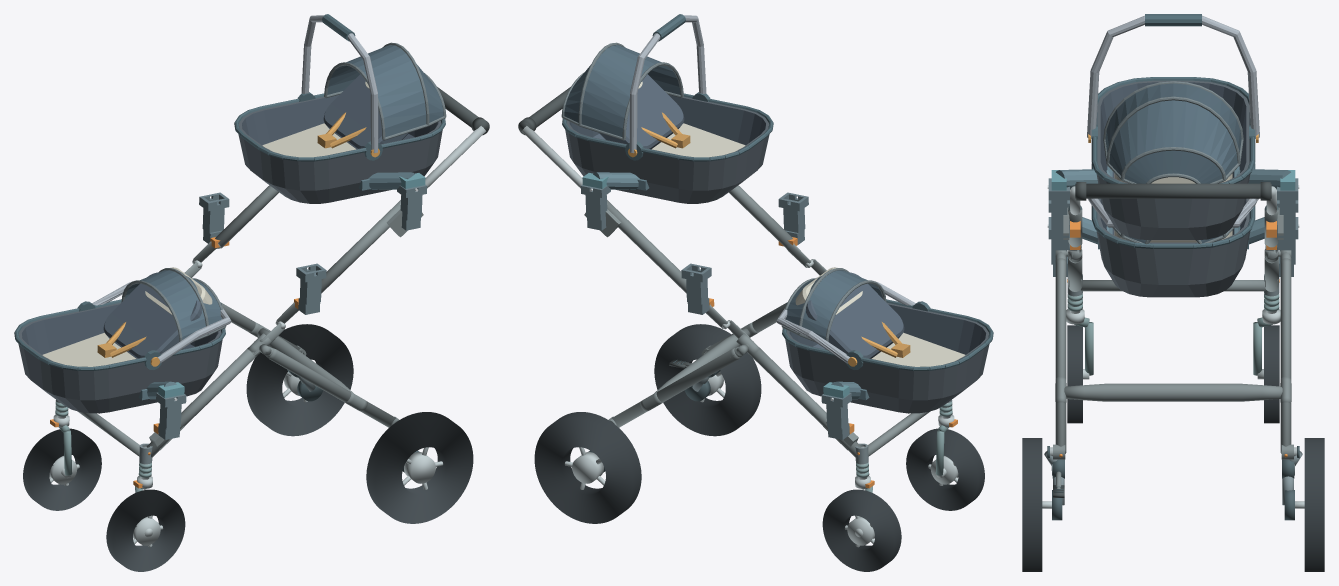
File: D04_w550_state1_wheel_M.glb
3 renders of one model, left to right at view 1: azimuth 30°, elevation 25°; view 2: azimuth 150°, elevation 25°; view 3: azimuth 270°, elevation 25°, orthographic. The views are drawn at different scales.
Visible parts, largest first — view 1: D04_Upper, D04_Lower, RL_tire.002, RR_tire.002, FL_tire.002, FR_tire.002, V46_rear_leg_-1.003, main_lower_-1.003, main_upper_-1.003, Universal_Cabin_Receiver_M_-1, Universal_Cabin_Receiver_M_1, D04_Upper_Mount_H (+9 smaller); view 2: D04_Upper, D04_Lower, RR_tire.002, RL_tire.002, FR_tire.002, FL_tire.002, V46_rear_leg_1.003, main_lower_1.003, main_upper_1.003, Universal_Cabin_Receiver_M_1, Universal_Cabin_Receiver_M_-1, D04_Upper_Mount_H (+9 smaller); view 3: D04_Upper, D04_Lower, V46_rearbar.003, round_handle.002, RL_tire.002, RR_tire.002, V46_rear_leg_1.003, V46_rear_leg_-1.003, D04_Upper_Mount_H, FL_tire.002, FR_tire.002, Universal_Cabin_Receiver_H_1 (+7 smaller).
Boxes of the visible parts, x1=… form: D04_Upper: x1=234, y1=14, x2=446, y2=203; D04_Lower: x1=14, y1=267, x2=231, y2=413; RL_tire.002: x1=366, y1=412, x2=473, y2=523; RR_tire.002: x1=246, y1=324, x2=353, y2=436; FL_tire.002: x1=106, y1=489, x2=185, y2=571; FR_tire.002: x1=23, y1=428, x2=101, y2=510; V46_rear_leg_-1.003: x1=268, y1=348, x2=395, y2=427; main_lower_-1.003: x1=146, y1=349, x2=259, y2=457; main_upper_-1.003: x1=321, y1=200, x2=400, y2=293; Universal_Cabin_Receiver_M_-1: x1=296, y1=263, x2=326, y2=314; Universal_Cabin_Receiver_M_1: x1=199, y1=192, x2=229, y2=243; D04_Upper_Mount_H: x1=358, y1=172, x2=425, y2=191; D04_Upper: x1=561, y1=14, x2=773, y2=203; D04_Lower: x1=776, y1=267, x2=993, y2=413; RR_tire.002: x1=534, y1=412, x2=641, y2=523; RL_tire.002: x1=654, y1=324, x2=761, y2=436; FR_tire.002: x1=822, y1=489, x2=901, y2=571; FL_tire.002: x1=906, y1=428, x2=984, y2=510; V46_rear_leg_1.003: x1=612, y1=348, x2=739, y2=427; main_lower_1.003: x1=748, y1=349, x2=861, y2=457; main_upper_1.003: x1=607, y1=200, x2=686, y2=293; Universal_Cabin_Receiver_M_1: x1=681, y1=263, x2=711, y2=314; Universal_Cabin_Receiver_M_-1: x1=778, y1=192, x2=808, y2=244; D04_Upper_Mount_H: x1=582, y1=172, x2=649, y2=191; D04_Upper: x1=1087, y1=14, x2=1259, y2=240; D04_Lower: x1=1088, y1=163, x2=1258, y2=297; V46_rearbar.003: x1=1064, y1=383, x2=1282, y2=401; round_handle.002: x1=1075, y1=183, x2=1271, y2=198; RL_tire.002: x1=1022, y1=438, x2=1042, y2=571; RR_tire.002: x1=1304, y1=438, x2=1324, y2=571; V46_rear_leg_1.003: x1=1280, y1=258, x2=1291, y2=453; V46_rear_leg_-1.003: x1=1055, y1=258, x2=1066, y2=453; D04_Upper_Mount_H: x1=1047, y1=166, x2=1299, y2=190; FL_tire.002: x1=1067, y1=325, x2=1082, y2=423; FR_tire.002: x1=1264, y1=325, x2=1279, y2=423; Universal_Cabin_Receiver_H_1: x1=1277, y1=178, x2=1298, y2=237.
Bounding box in the file's own units: 1.28 × 1.33 × 0.6771.
